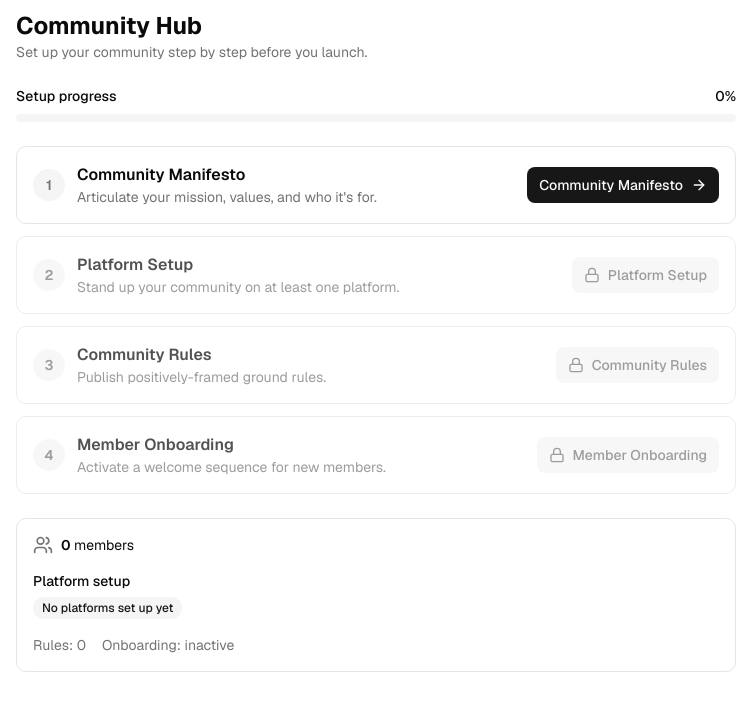
CommunityHub › shows 'Complete manifesto first' when the locked rules CTA is clicked
Click the link "Community Rules": click(637, 365) [556,347,719,383]
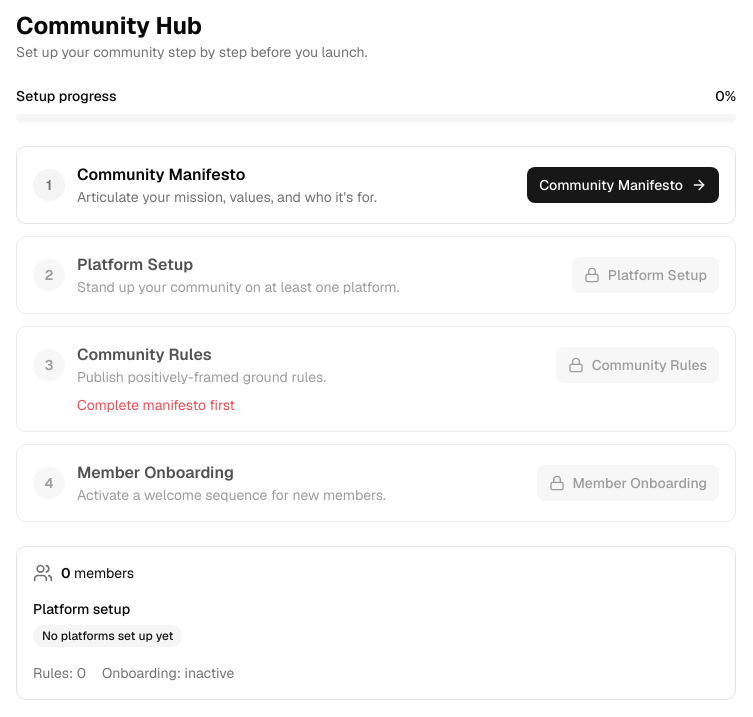
Expected: the text "Complete manifesto first" is shown, [77,396,235,414]
